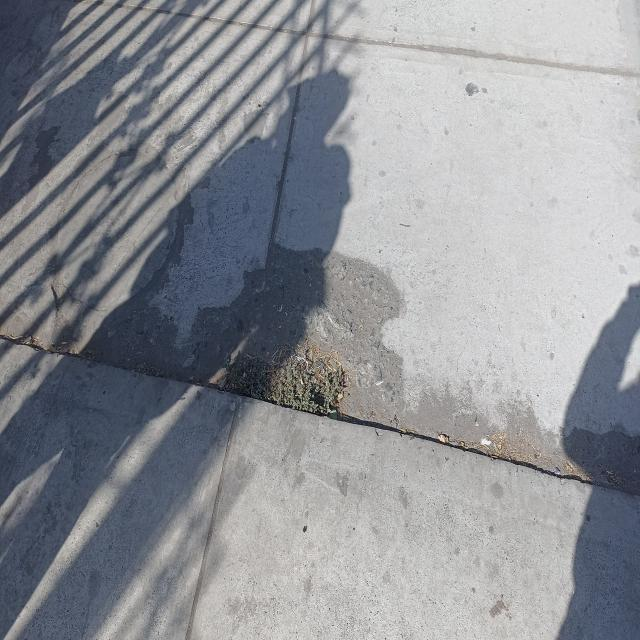hole: (193, 234, 407, 437)
